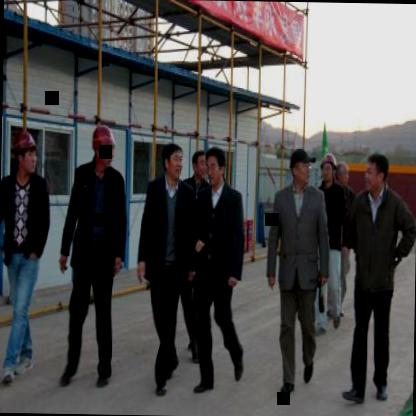head: (362, 150, 391, 195), (288, 144, 314, 186), (205, 141, 227, 186), (161, 141, 184, 182), (190, 148, 208, 181), (334, 159, 352, 189)
helmet: (13, 127, 42, 178), (91, 120, 116, 168), (318, 148, 338, 184)
